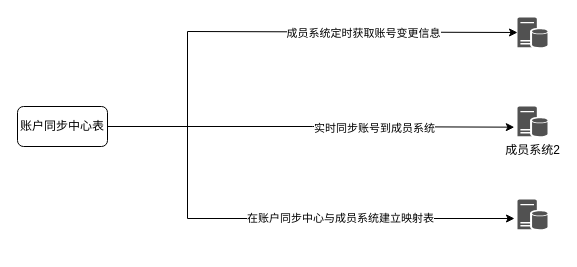
Image size: 577x267. Some labels were removed from this diagram. Here are the shapes that lost their labels. From the top down, the box of each, then its label:
(517, 17, 547, 47): 成员系统1
(517, 199, 547, 229): 成员系统3
